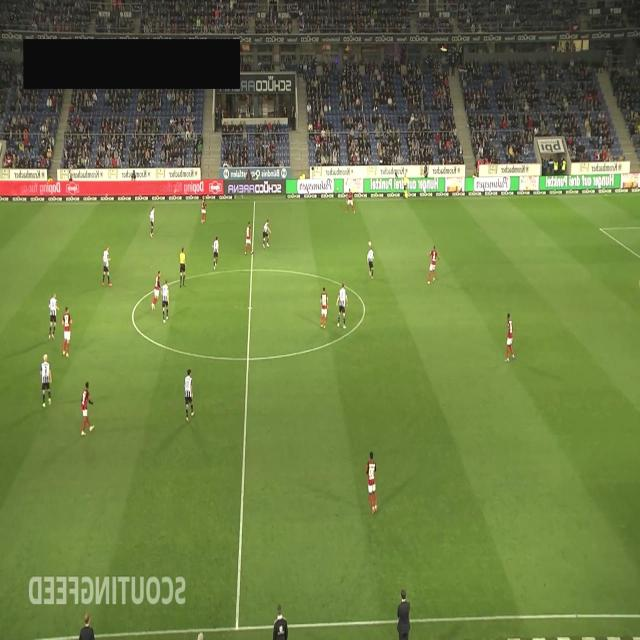player: (80, 381, 95, 436), (365, 451, 377, 515), (40, 354, 52, 408), (61, 306, 73, 358), (48, 292, 60, 340), (184, 368, 194, 424), (336, 282, 348, 328), (426, 244, 439, 284), (505, 313, 515, 362), (101, 245, 112, 287), (151, 270, 161, 310), (161, 279, 170, 323), (320, 286, 328, 329), (244, 220, 253, 256), (262, 218, 272, 250), (345, 188, 355, 214), (367, 245, 374, 279), (212, 236, 219, 270), (149, 206, 155, 238), (201, 198, 207, 224)
referee: (180, 246, 187, 288), (403, 170, 409, 198)
